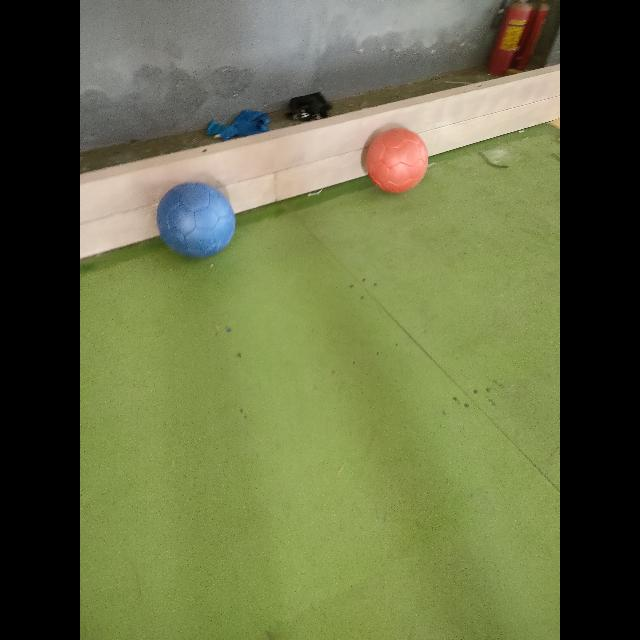B: (156, 182, 235, 258)
R: (366, 129, 429, 192)
